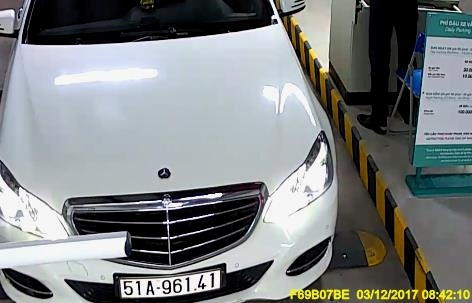plate: (114, 270, 220, 303)
